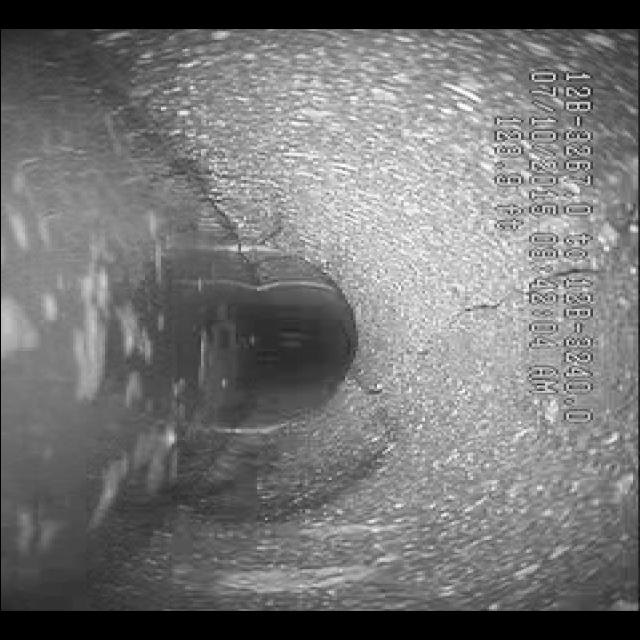Crack: (367, 286, 503, 401)
